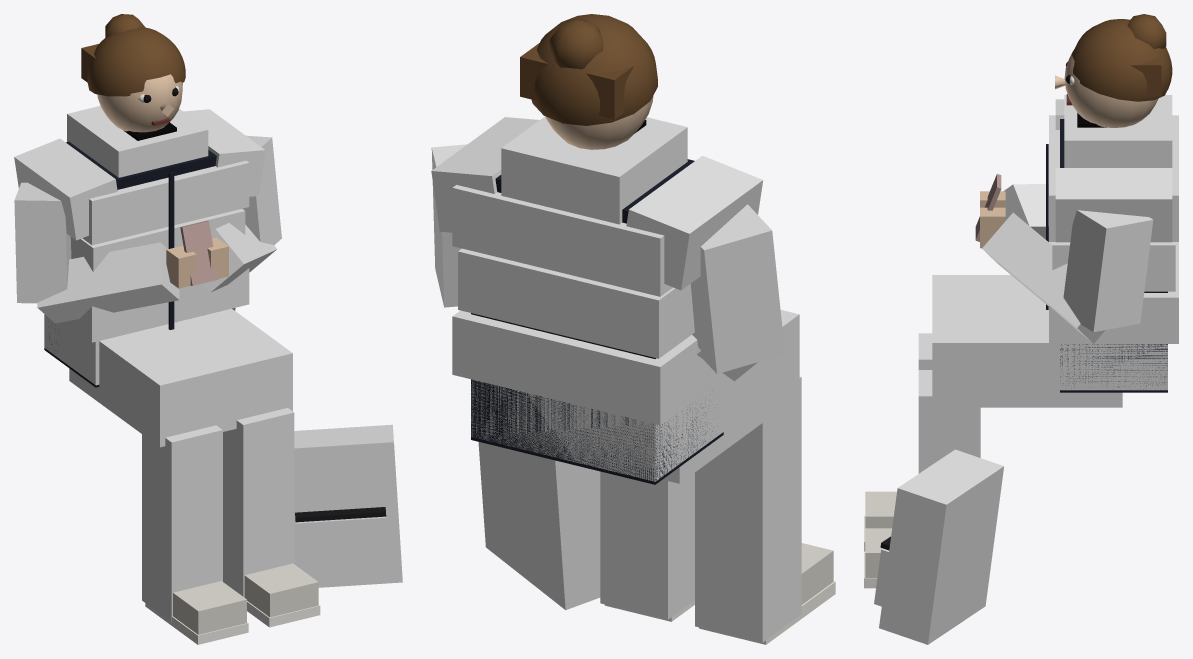
The model's file is NPC_texter_seated.fbx.
3 views of the same model, side by side, from view 1: azimuth 30°, elevation 25°; view 2: azimuth 150°, elevation 25°; view 3: azimuth 270°, elevation 25° (orthographic). The views are drawn at different scales.
Visible parts, largest first — view 1: Body_Cloth_283148.001, Body_Cloth_9aa6b4.001, Prop_Backpack_Cloth_3a3633, Body_Mat_dfdcd3.001, Head_Hair.017, Head_Skin.017, Body_Mat_151a27.001, Body_Mat_f1efe8.003, Body_Skin.017, Prop_Phone_PhoneBodyRose.001, Prop_Backpack_Mat_18171a; view 2: Body_Cloth_283148.001, Body_Cloth_9aa6b4.001, Prop_Backpack_Cloth_3a3633, Head_Hair.017, Body_Mat_151a27.001, Head_Skin.017, Body_Mat_dfdcd3.001, Body_Mat_f1efe8.003; view 3: Body_Cloth_283148.001, Body_Cloth_9aa6b4.001, Prop_Backpack_Cloth_3a3633, Head_Hair.017, Head_Skin.017, Body_Mat_dfdcd3.001, Body_Mat_151a27.001, Body_Skin.017.
Boxes of the visible parts, bbox=[...] form: Body_Cloth_283148.001: bbox=[14, 106, 281, 385]; Body_Cloth_9aa6b4.001: bbox=[69, 308, 294, 621]; Prop_Backpack_Cloth_3a3633: bbox=[294, 424, 402, 587]; Body_Mat_dfdcd3.001: bbox=[173, 563, 318, 634]; Head_Hair.017: bbox=[81, 14, 185, 96]; Head_Skin.017: bbox=[97, 74, 182, 132]; Body_Mat_151a27.001: bbox=[44, 141, 235, 387]; Body_Mat_f1efe8.003: bbox=[145, 601, 320, 644]; Body_Skin.017: bbox=[166, 237, 228, 288]; Prop_Phone_PhoneBodyRose.001: bbox=[180, 221, 218, 285]; Prop_Backpack_Mat_18171a: bbox=[295, 507, 386, 522]; Body_Cloth_283148.001: bbox=[431, 116, 784, 481]; Body_Cloth_9aa6b4.001: bbox=[600, 310, 801, 642]; Prop_Backpack_Cloth_3a3633: bbox=[478, 441, 600, 610]; Head_Hair.017: bbox=[520, 14, 657, 125]; Body_Mat_151a27.001: bbox=[471, 159, 723, 484]; Head_Skin.017: bbox=[545, 96, 653, 149]; Body_Mat_dfdcd3.001: bbox=[801, 543, 833, 604]; Body_Mat_f1efe8.003: bbox=[604, 581, 835, 644]; Body_Cloth_283148.001: bbox=[982, 95, 1178, 390]; Body_Cloth_9aa6b4.001: bbox=[918, 275, 1122, 473]; Prop_Backpack_Cloth_3a3633: bbox=[874, 449, 1003, 644]; Head_Hair.017: bbox=[1072, 14, 1172, 101]; Head_Skin.017: bbox=[1055, 50, 1158, 127]; Body_Mat_dfdcd3.001: bbox=[865, 491, 896, 577]; Body_Mat_151a27.001: bbox=[1046, 119, 1167, 392]; Body_Skin.017: bbox=[980, 191, 1005, 248].
Bounding box in the file's own units: 0.8543 × 1.39 × 0.7275.
